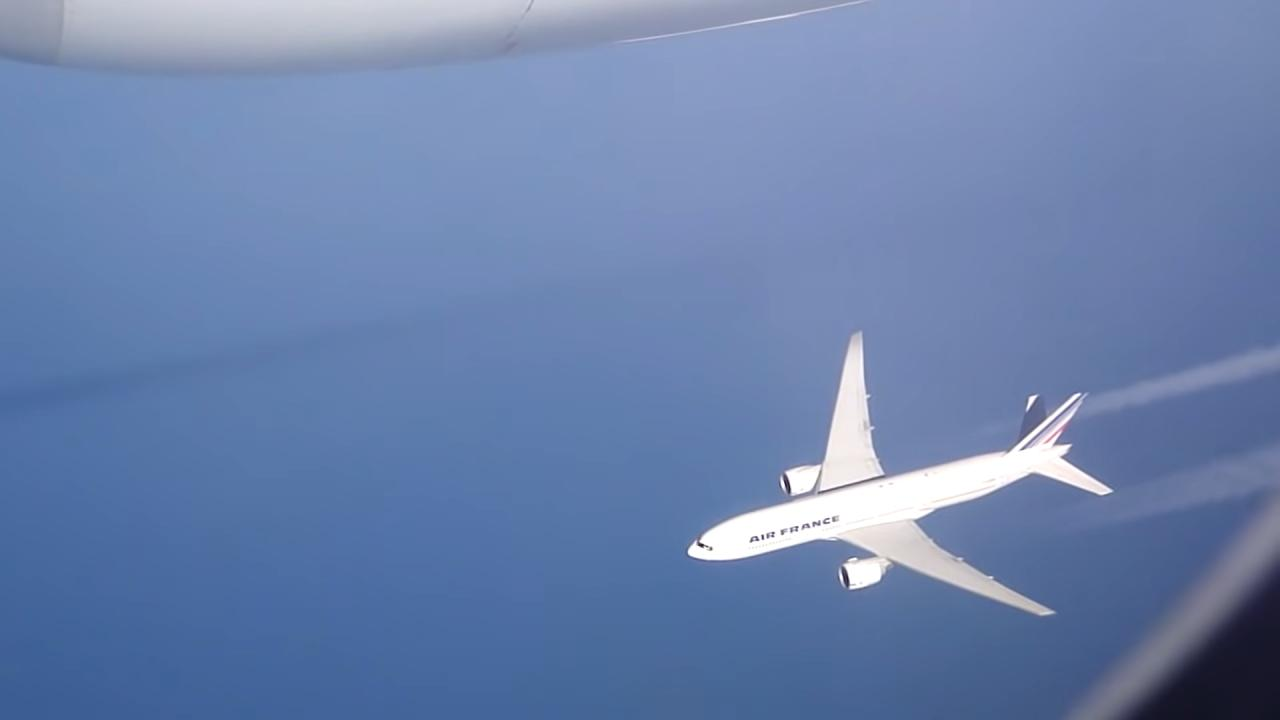Airplane: (674, 317, 1126, 625)
